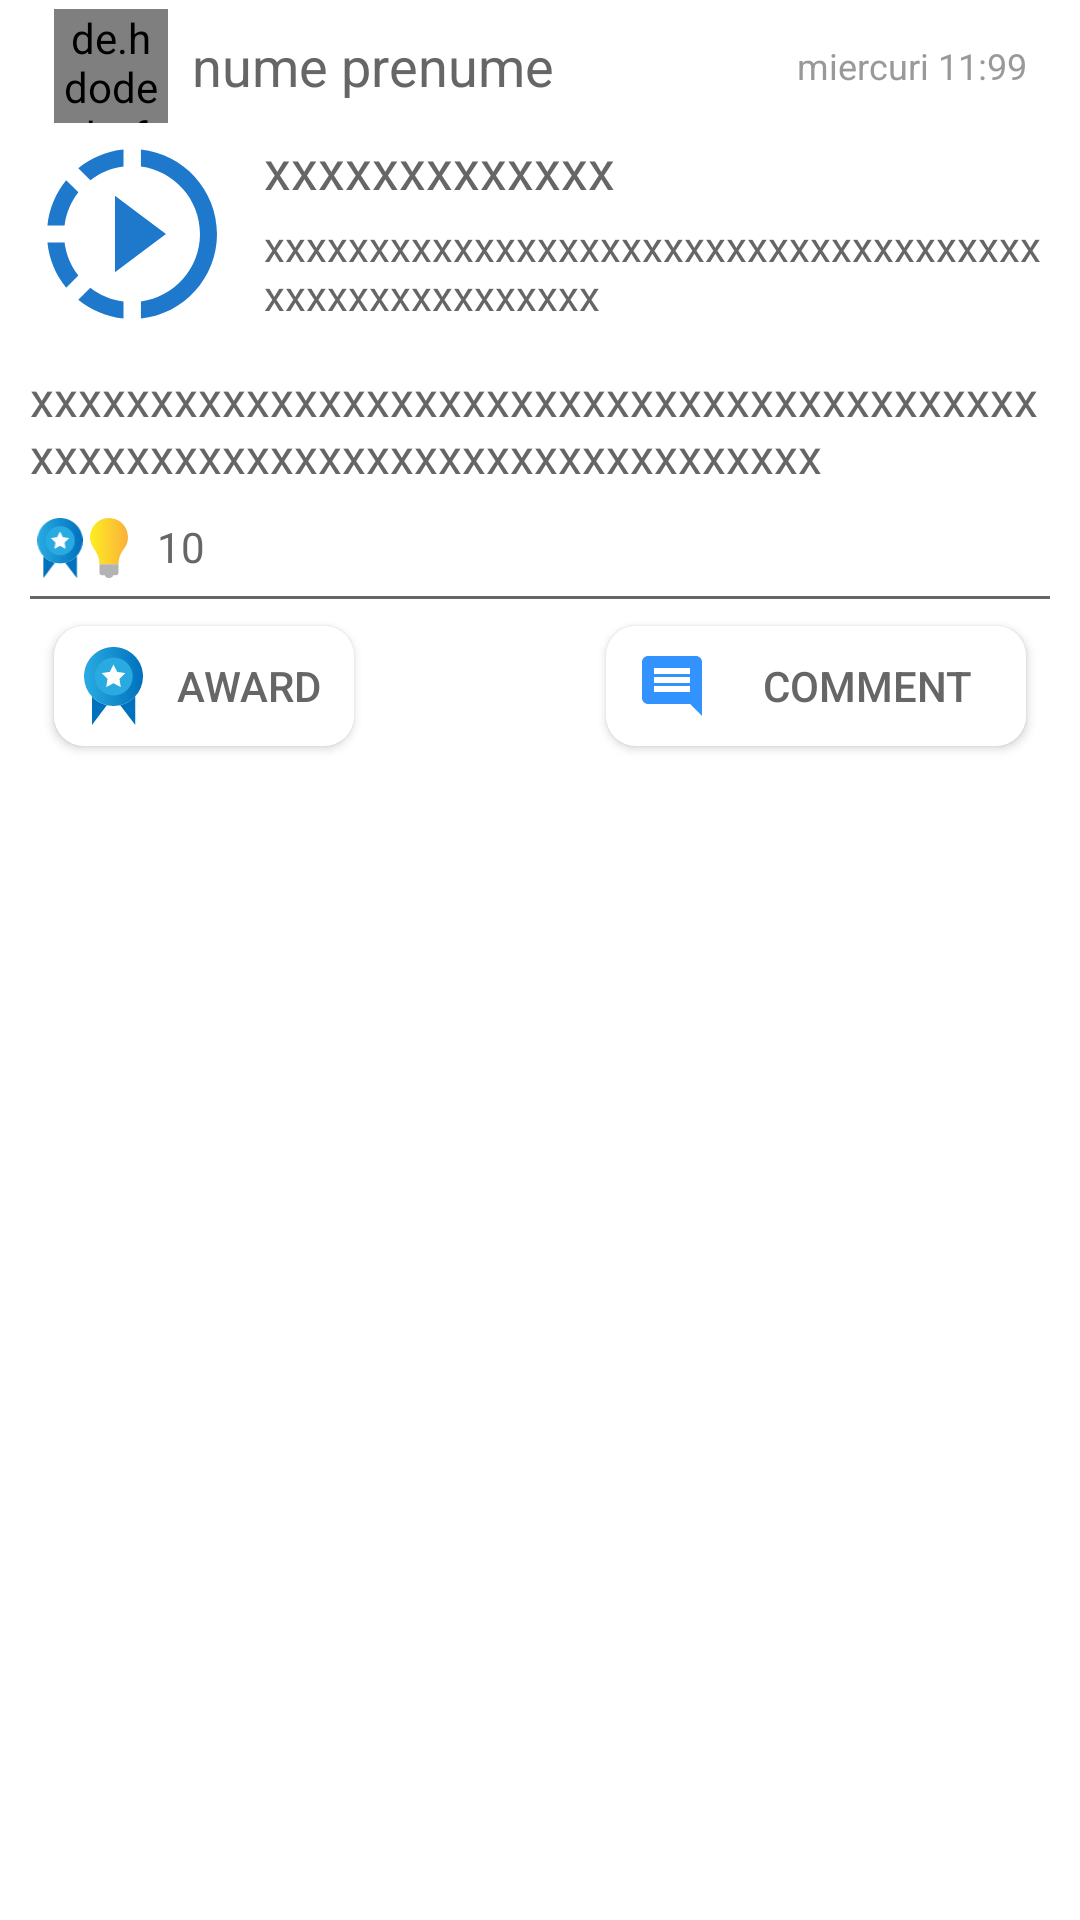

Icons on this 1080x1920 Android screen, each with its box as (x1=x1, y1=y1, x2=x2, y2=y2):
video: (x1=47, y1=149, x2=217, y2=319)
